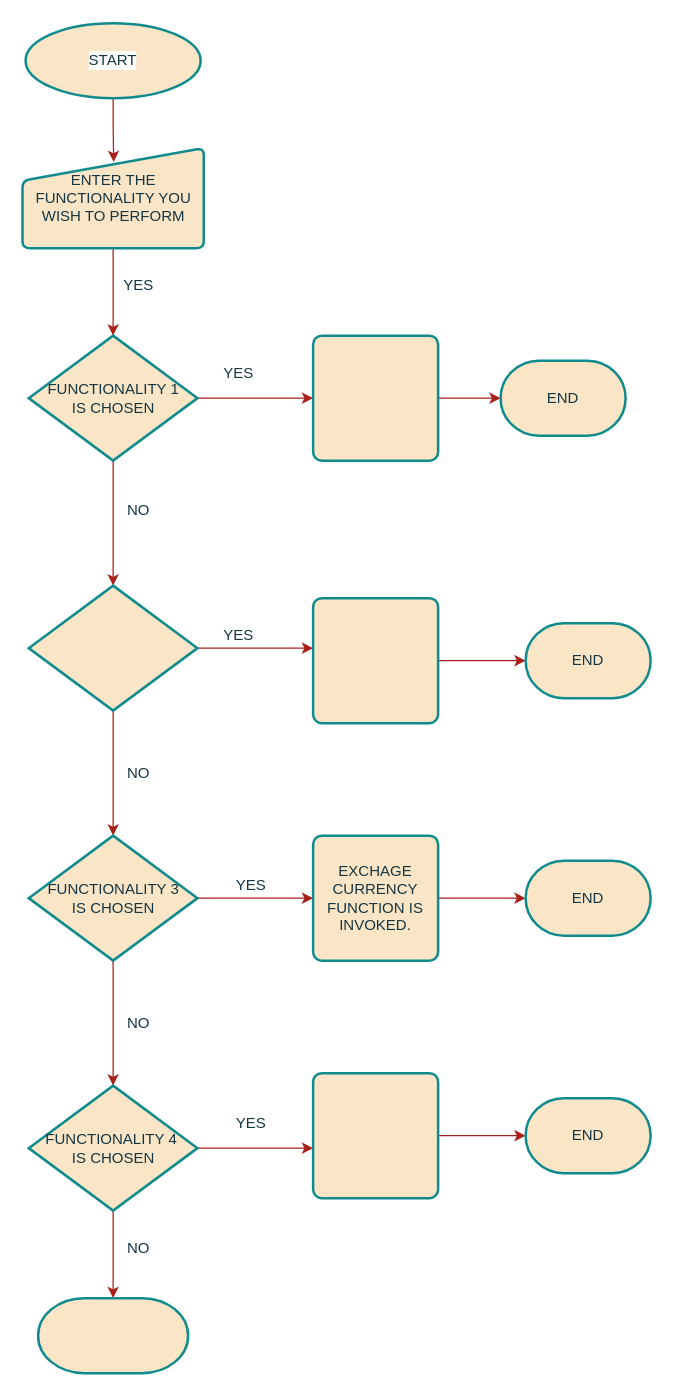
Some shapes in this 674 by 1395 pixel diagram are drawn without their labels. Each missing label, with the centre of its shape:
COMPARE CURRENCIES FUNCTION IS INVPKED.: (375,660)
DENOMINATION CALCULATOR FUNCTION IS INVOKED.: (375,1135)
EXIT: (112,1335)
EXPLORE CURRENCIES FUNCTION IS INVOKED.: (375,397)
FUNCTIONALITY 2 IS CHOSEN: (112,647)
